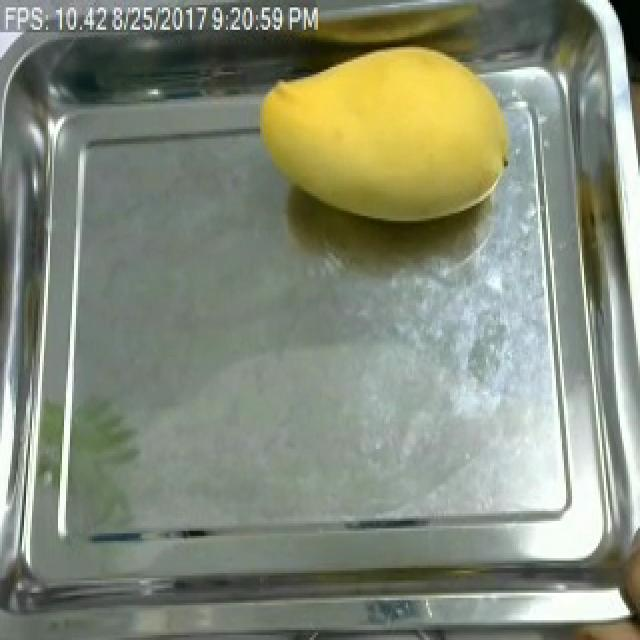fruit: (244, 22, 530, 243)
